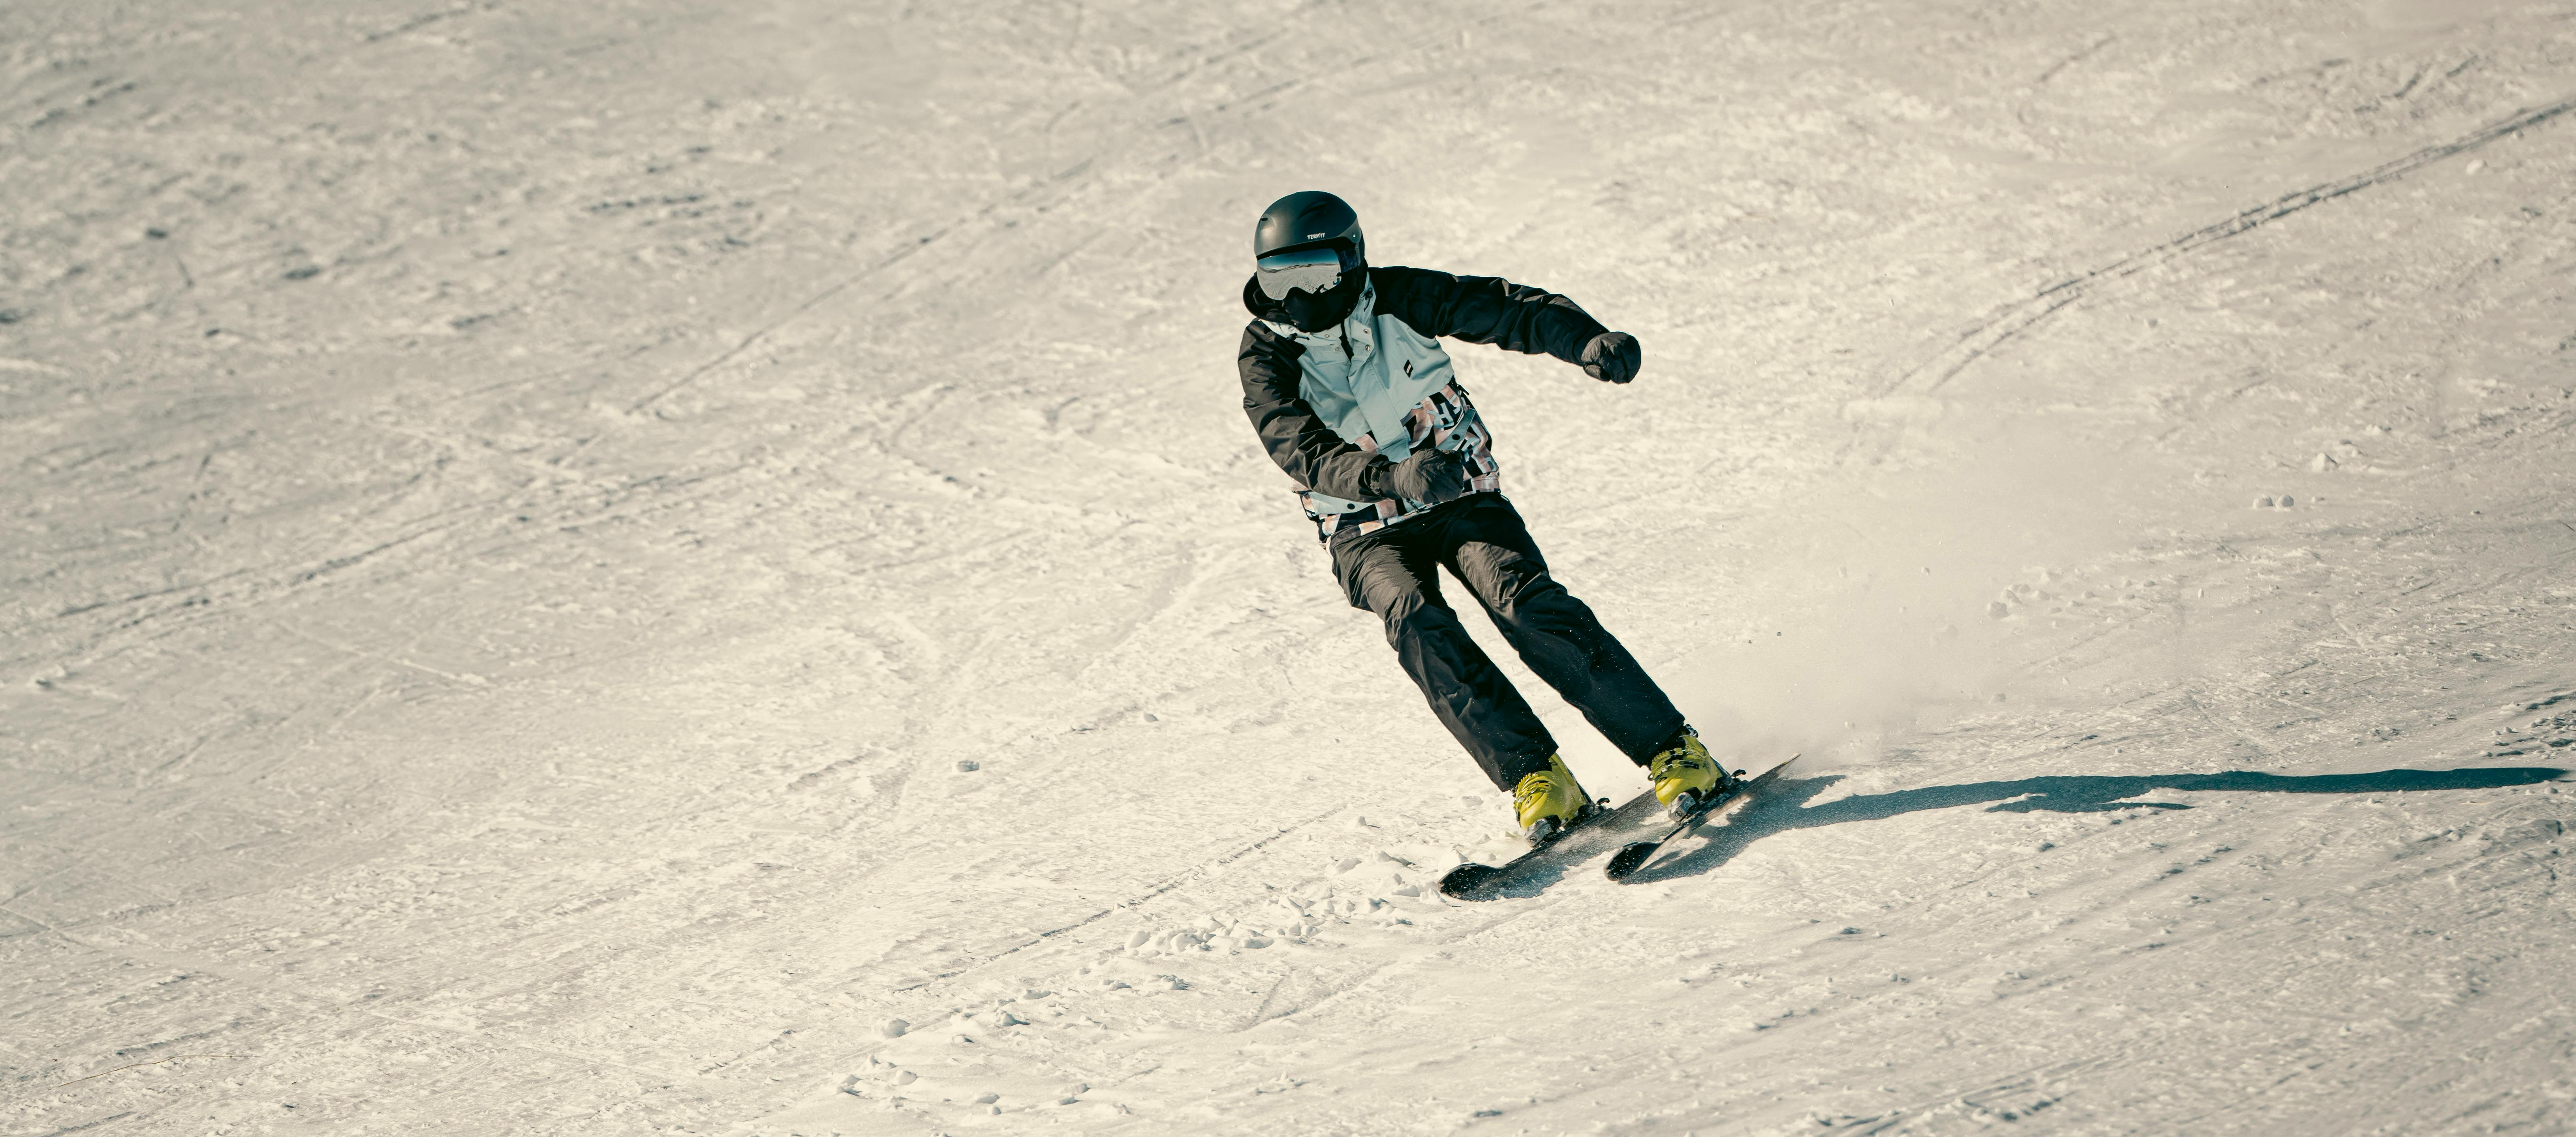skier: (1227, 192, 1807, 894)
